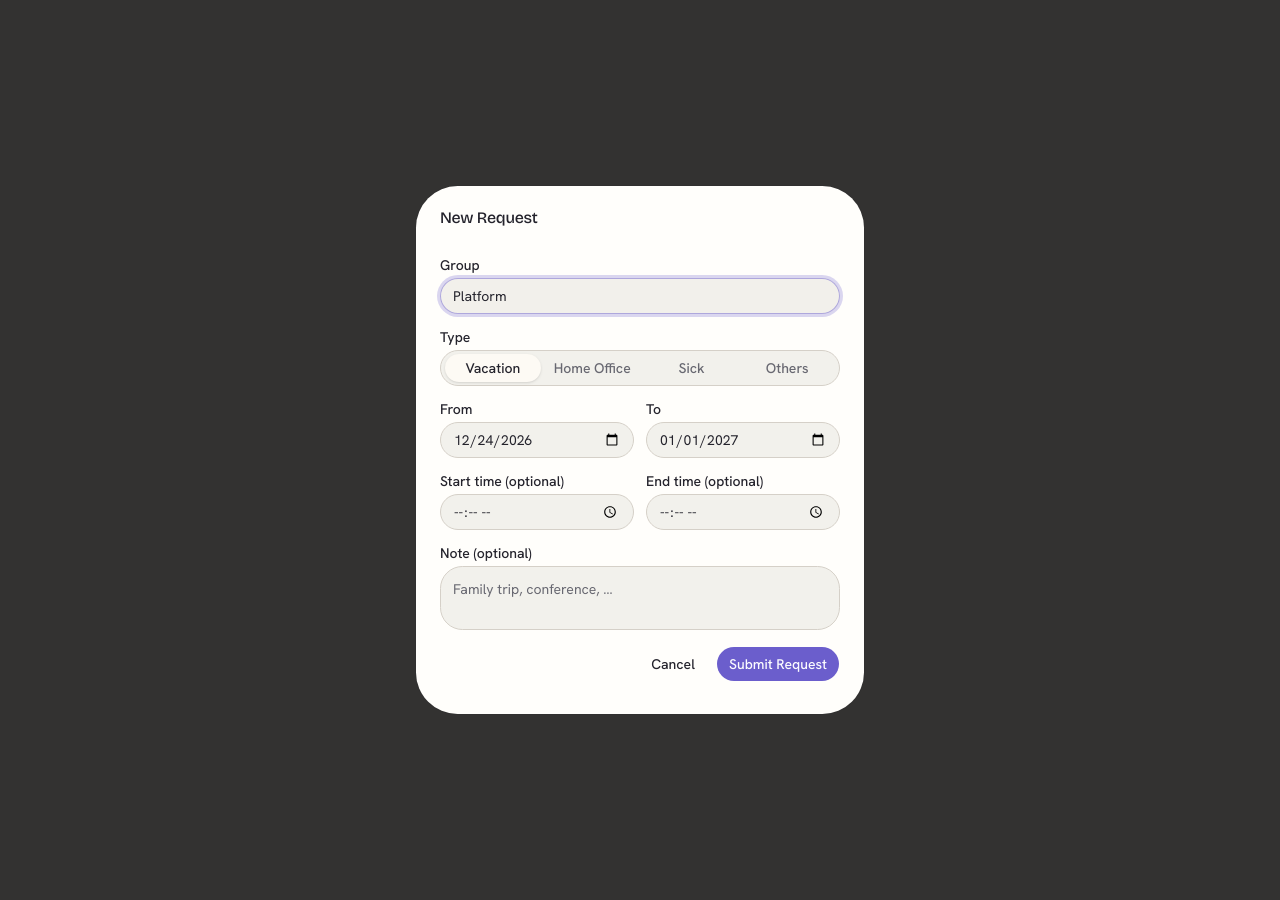
Scenario: NewRequestDialog › names the stored days the overlap error reports
Click the button "Submit Request". click: (778, 664)
box: [716,646,840,682]
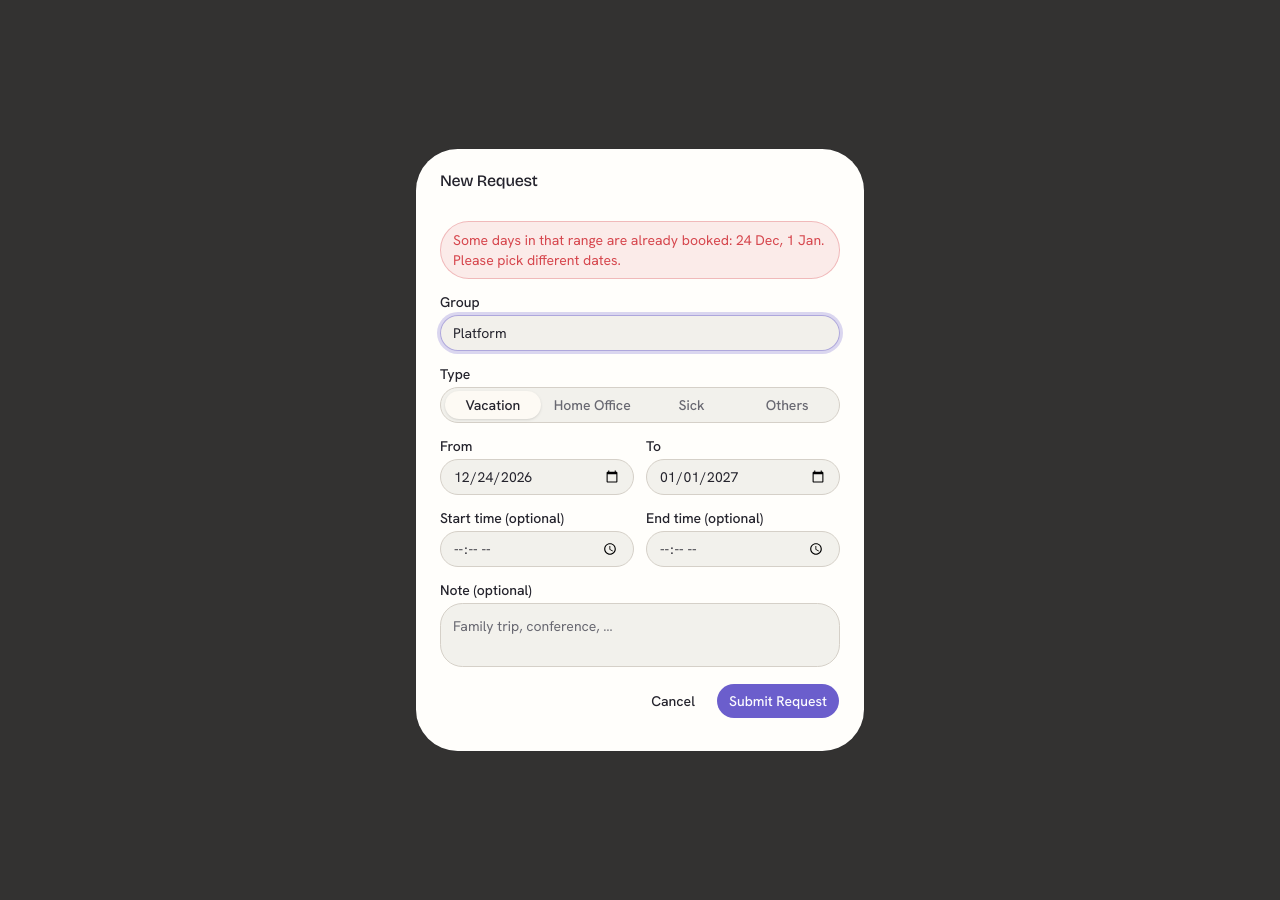
Now the text "already booked: 24 Dec, 1 Jan." is shown, box [453,231,824,269]
